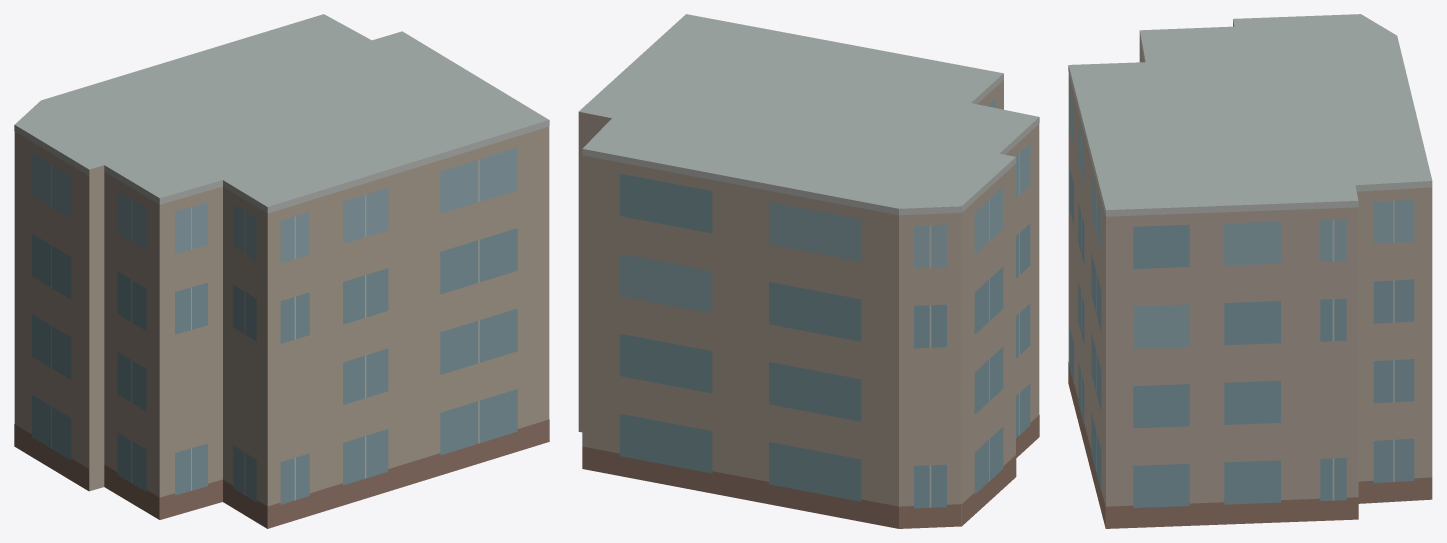
The model's file is survey-upis-32510323.glb.
3 views of the same model, side by side, from view 1: azimuth 30°, elevation 25°; view 2: azimuth 150°, elevation 25°; view 3: azimuth 270°, elevation 25° (orthographic).
Parts seen in each view (by area): view 1: survey-upis-32510323.tmp; view 2: survey-upis-32510323.tmp; view 3: survey-upis-32510323.tmp.
Boxes of the visible parts, left/top/right/bottom form: survey-upis-32510323.tmp: left=14, top=14, right=549, bottom=528; survey-upis-32510323.tmp: left=578, top=14, right=1039, bottom=528; survey-upis-32510323.tmp: left=1068, top=14, right=1432, bottom=528.
Bounding box in the file's own units: 15.85 × 12 × 12.43.
